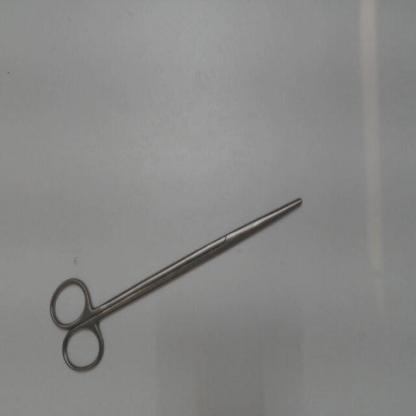9 Metzenbaum Scissors: (43, 193, 309, 382)
